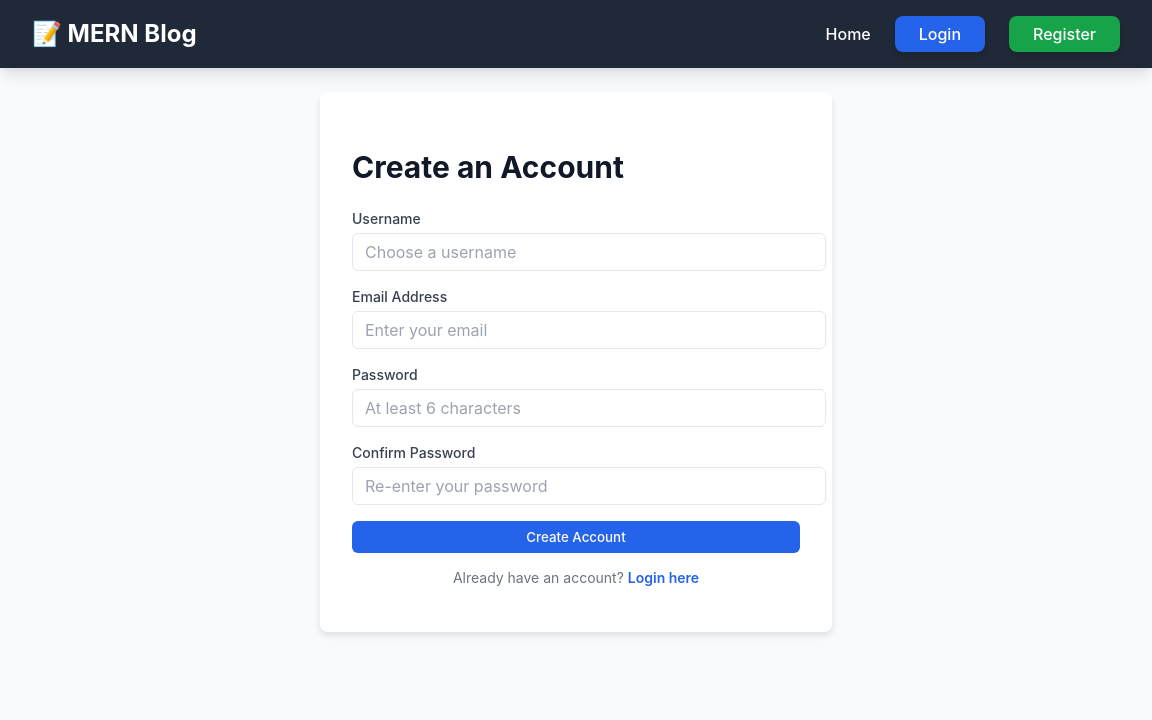
Test: Critical User Flows › User Registration › should show validation errors for invalid registration
Step 1. Click the submit button → (576, 537), box [352, 521, 800, 553]
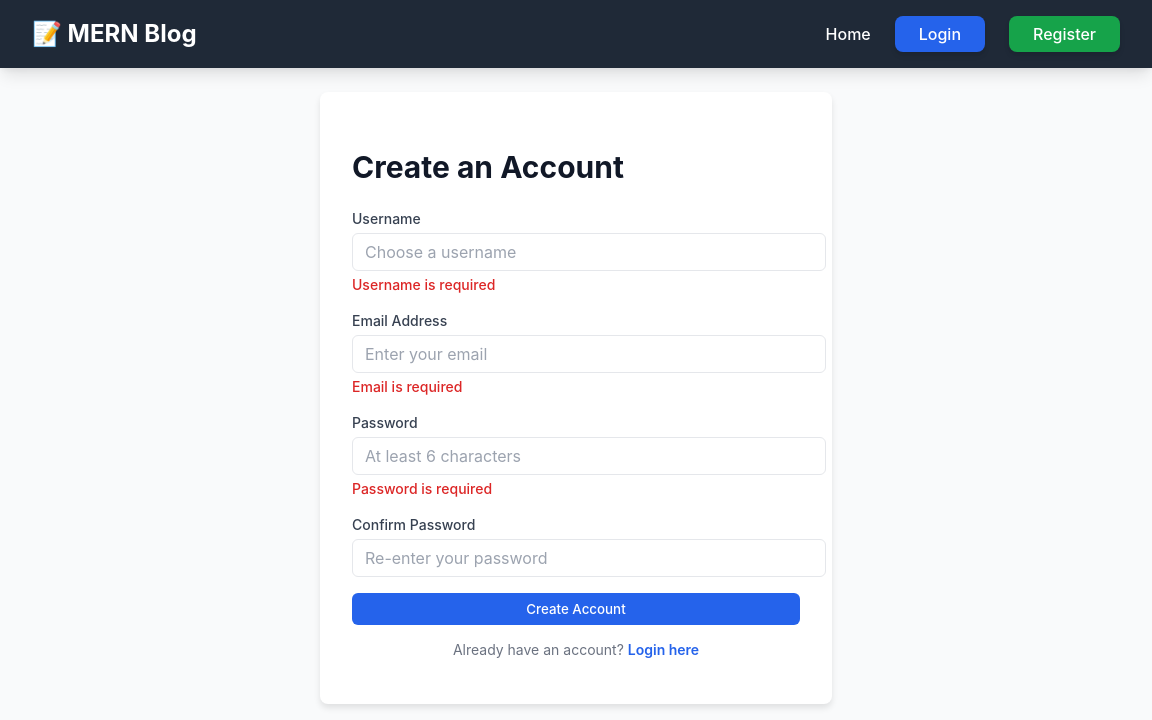
Check: the text "Username is required" is shown, box [352, 276, 495, 293]
Check: the text "Email is required" is shown, box [352, 378, 462, 395]
Check: the text "Password is required" is shown, box [352, 480, 492, 497]
